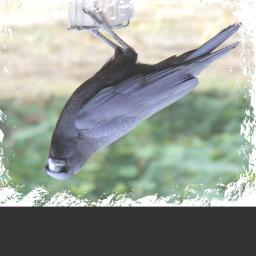Crow: (40, 4, 246, 180)
